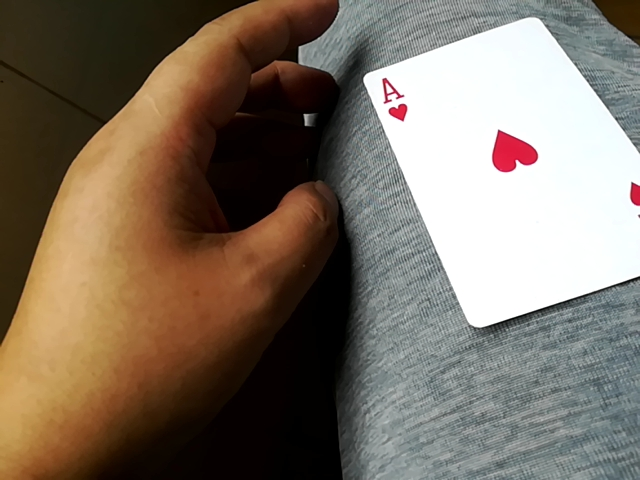hx a: (364, 20, 637, 330)
